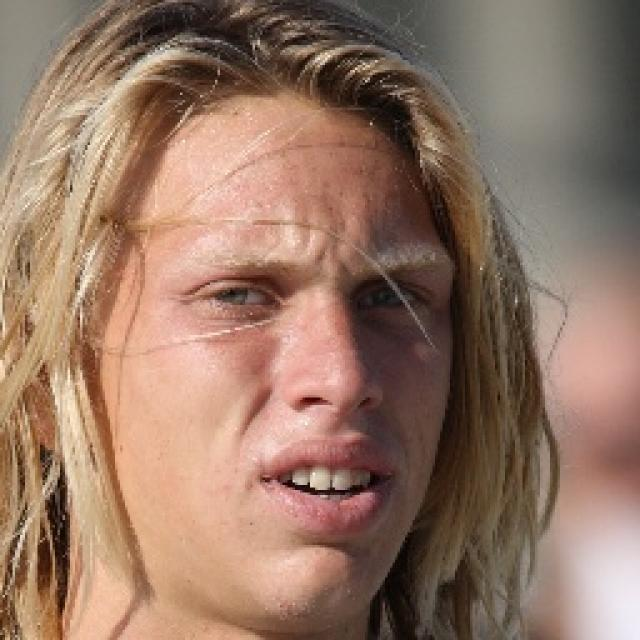earlobe: (27, 400, 70, 448)
eye: (194, 278, 281, 311), (359, 279, 430, 313)
nose: (284, 399, 384, 437)
